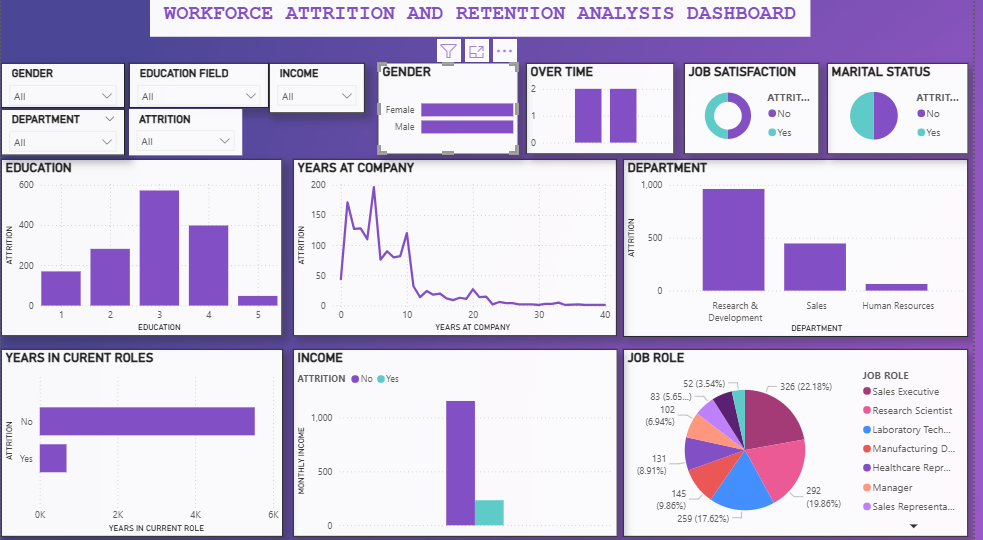

The dashboard page shown, as its layout file describes it:
{"tool":"powerbi","page":{"name":"Page 1","canvas":[1280,720],"ordinal":0},"visuals":[{"type":"clusteredColumnChart","title":"DEPARTMENT","fields":{"Category":["WA_Fn-UseC_-HR-Employee-Attrition.DEPARTMENT"],"Y":["CountNonNull(WA_Fn-UseC_-HR-Employee-Attrition.ATTRITION)"]},"box":[818.4,211.8,453.9,234.2],"z":0},{"type":"pieChart","title":"  JOB ROLE","fields":{"Category":["WA_Fn-UseC_-HR-Employee-Attrition.JobRole"],"Y":["CountNonNull(WA_Fn-UseC_-HR-Employee-Attrition.ATTRITION)"]},"box":[818,462,454,247],"z":1000},{"type":"clusteredColumnChart","title":"INCOME ","fields":{"Series":["WA_Fn-UseC_-HR-Employee-Attrition.ATTRITION"],"Y":["Count(WA_Fn-UseC_-HR-Employee-Attrition.MonthlyIncome)"]},"box":[384,462,427,247],"z":2000},{"type":"lineChart","title":"YEARS AT COMPANY","fields":{"Y":["CountNonNull(WA_Fn-UseC_-HR-Employee-Attrition.ATTRITION)"],"Category":["WA_Fn-UseC_-HR-Employee-Attrition.YearsAtCompany"]},"box":[384.2,211.8,426.3,232.9],"z":3000},{"type":"barChart","title":"YEARS IN CURENT ROLES","fields":{"Category":["WA_Fn-UseC_-HR-Employee-Attrition.ATTRITION"],"Y":["Sum(WA_Fn-UseC_-HR-Employee-Attrition.YearsInCurrentRole)"]},"box":[0,462,371,247],"z":4000},{"type":"columnChart","title":"       EDUCATION","fields":{"Y":["CountNonNull(WA_Fn-UseC_-HR-Employee-Attrition.ATTRITION)"],"Category":["WA_Fn-UseC_-HR-Employee-Attrition.Education"]},"box":[0,211.8,369.7,232.9],"z":5000},{"type":"pieChart","title":"MARITAL STATUS","fields":{"Series":["WA_Fn-UseC_-HR-Employee-Attrition.ATTRITION"],"Y":["Count(WA_Fn-UseC_-HR-Employee-Attrition.MaritalStatus)"]},"box":[1086.8,85.5,185.5,119.7],"z":6000},{"type":"lineStackedColumnComboChart","title":"OVER TIME","fields":{"Category":["WA_Fn-UseC_-HR-Employee-Attrition.ATTRITION"],"Y":["Count(WA_Fn-UseC_-HR-Employee-Attrition.OverTime)"]},"box":[690.8,85.5,194.7,119.7],"z":7000},{"type":"donutChart","title":"JOB SATISFACTION","fields":{"Category":["WA_Fn-UseC_-HR-Employee-Attrition.ATTRITION"],"Y":["Count(WA_Fn-UseC_-HR-Employee-Attrition.JobSatisfaction)"]},"box":[898.7,85.5,177.6,119.7],"z":8000},{"type":"slicer","fields":{"Values":["WA_Fn-UseC_-HR-Employee-Attrition.Gender"]},"box":[0,85.5,163.2,59.2],"z":9000},{"type":"slicer","fields":{"Values":["WA_Fn-UseC_-HR-Employee-Attrition.DEPARTMENT"]},"box":[0,146.1,163.2,60.5],"z":10000},{"type":"slicer","fields":{"Values":["WA_Fn-UseC_-HR-Employee-Attrition.EDUCATION FIELD"]},"box":[168.4,85.5,184.2,59.2],"z":11000},{"type":"barChart","title":"GENDER","fields":{"Y":["Count(WA_Fn-UseC_-HR-Employee-Attrition.ATTRITION)"],"Category":["WA_Fn-UseC_-HR-Employee-Attrition.Gender"]},"box":[496.1,85.5,184.2,119.7],"z":12000},{"type":"slicer","fields":{"Values":["WA_Fn-UseC_-HR-Employee-Attrition.MonthlyIncome"]},"box":[352.6,85.5,126.3,65.8],"z":12001},{"type":"slicer","fields":{"Values":["WA_Fn-UseC_-HR-Employee-Attrition.ATTRITION"]},"box":[168.4,146.1,148.7,60.5],"z":12002},{"type":"textbox","box":[196,0,869,51],"z":12003}]}

Visuals, with their boxes in screenshot pixels (x1, y1, x2, y2), scaled from the page's 1280x720 canvas onto the 983x540 screenshot:
"DEPARTMENT" clusteredColumnChart: box=[629, 159, 977, 334]
"  JOB ROLE" pieChart: box=[628, 346, 977, 532]
"INCOME " clusteredColumnChart: box=[295, 346, 623, 532]
"YEARS AT COMPANY" lineChart: box=[295, 159, 622, 334]
"YEARS IN CURENT ROLES" barChart: box=[0, 346, 285, 532]
"       EDUCATION" columnChart: box=[0, 159, 284, 334]
"MARITAL STATUS" pieChart: box=[835, 64, 977, 154]
"OVER TIME" lineStackedColumnComboChart: box=[531, 64, 680, 154]
"JOB SATISFACTION" donutChart: box=[690, 64, 827, 154]
slicer - WA_Fn-UseC_-HR-Employee-Attrition.Gender: box=[0, 64, 125, 109]
slicer - WA_Fn-UseC_-HR-Employee-Attrition.DEPARTMENT: box=[0, 110, 125, 155]
slicer - WA_Fn-UseC_-HR-Employee-Attrition.EDUCATION FIELD: box=[129, 64, 271, 109]
"GENDER" barChart: box=[381, 64, 522, 154]
slicer - WA_Fn-UseC_-HR-Employee-Attrition.MonthlyIncome: box=[271, 64, 368, 113]
slicer - WA_Fn-UseC_-HR-Employee-Attrition.ATTRITION: box=[129, 110, 244, 155]
textbox: box=[151, 0, 818, 38]
